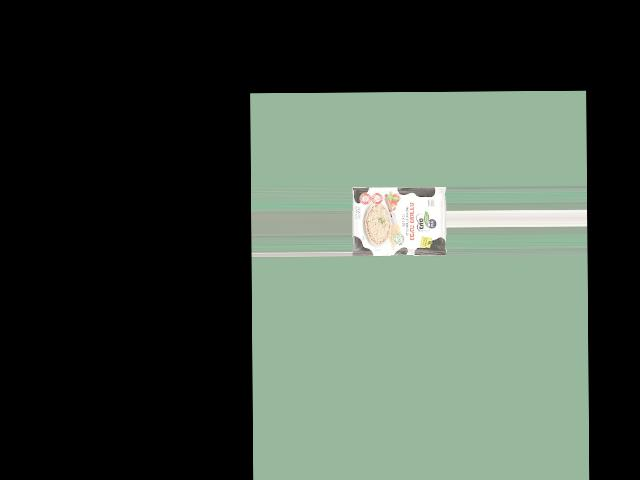cheese: (356, 174, 439, 257)
